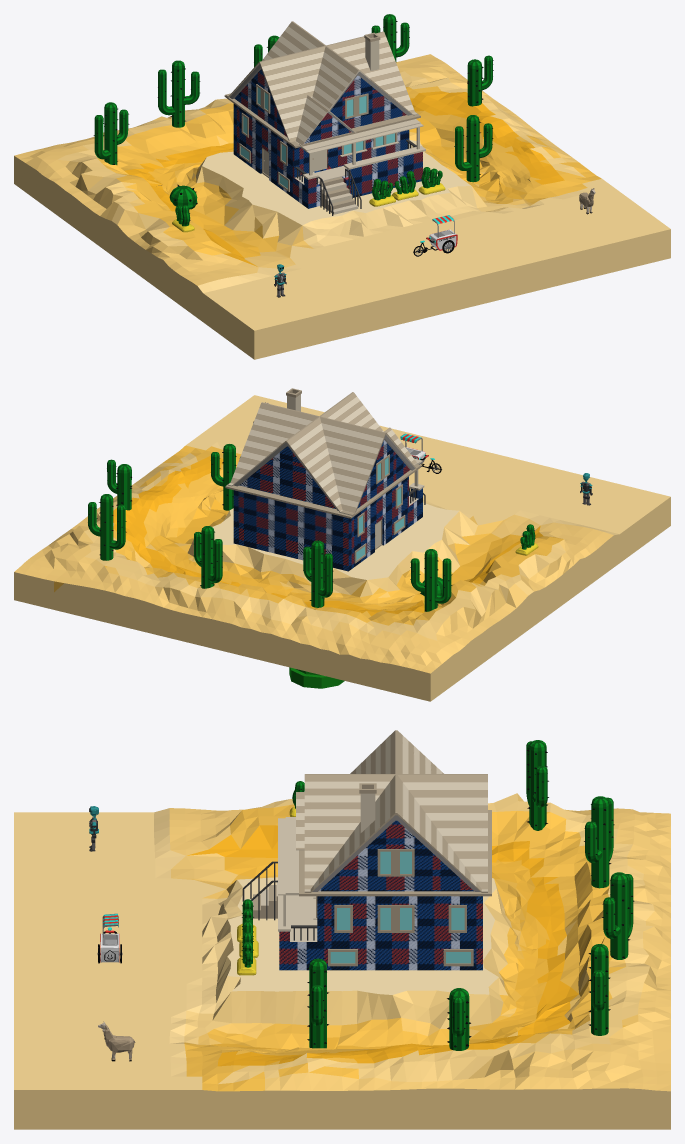
The picture shows the model from 3 angles, top to bottom: view 1: azimuth 30°, elevation 25°; view 2: azimuth 150°, elevation 25°; view 3: azimuth 270°, elevation 25°; orthographic projection. The views are drawn at different scales.
Parts seen in each view (by area): view 1: Cube.001, Cube.171, Cylinder.037, Cylinder.044, Cylinder.045, Cylinder.038, Cylinder.042, VEHICLES_SNOWBAL_BIKE, Cylinder.039, Cylinder.041, Sphere.023, Cylinder.040; view 2: Cube.001, Cube.171, Cylinder.042, Cylinder.045, Cylinder.044, Cylinder.043, Cylinder.037, Cylinder.038, UNDERGROUND_PIPES, VEHICLES_SNOWBAL_BIKE; view 3: Cube.001, Cube.171, Cylinder.043, Cylinder.044, Cylinder.045, Cylinder.042, Cylinder.037, Cylinder.038, VEHICLES_SNOWBAL_BIKE, ANIMAL_LLAMA, Cylinder.041.
Boxes of the visible parts, x1,y1,x2,y2 form: Cube.001: [14, 54, 670, 359]; Cube.171: [224, 21, 425, 215]; Cylinder.037: [454, 115, 493, 182]; Cylinder.044: [157, 60, 200, 127]; Cylinder.045: [93, 102, 129, 164]; Cylinder.038: [467, 55, 493, 106]; Cylinder.042: [371, 14, 409, 62]; VEHICLES_SNOWBAL_BIKE: [413, 215, 457, 256]; Cylinder.039: [369, 179, 395, 206]; Cylinder.041: [418, 167, 445, 194]; Sphere.023: [169, 184, 197, 209]; Cylinder.040: [392, 171, 418, 200]; Cube.001: [14, 395, 670, 701]; Cube.171: [225, 388, 425, 571]; Cylinder.042: [88, 494, 126, 560]; Cylinder.045: [410, 549, 452, 611]; Cylinder.044: [303, 540, 333, 607]; Cylinder.043: [193, 526, 222, 588]; Cylinder.037: [211, 444, 240, 510]; Cylinder.038: [107, 459, 131, 510]; UNDERGROUND_PIPES: [289, 667, 344, 688]; VEHICLES_SNOWBAL_BIKE: [400, 433, 441, 473]; Cube.001: [14, 793, 670, 1129]; Cube.171: [242, 730, 491, 970]; Cylinder.043: [602, 872, 634, 959]; Cylinder.044: [584, 796, 614, 888]; Cylinder.045: [526, 740, 548, 830]; Cylinder.042: [588, 944, 610, 1035]; Cylinder.037: [307, 958, 328, 1048]; Cylinder.038: [447, 988, 471, 1050]; VEHICLES_SNOWBAL_BIKE: [97, 913, 122, 963]; ANIMAL_LLAMA: [98, 1021, 135, 1061]; Cylinder.041: [237, 932, 256, 975].
Size of the model in its own units: 4002 by 2210 by 4001.
Materials: 30 (3 with a texture image).
